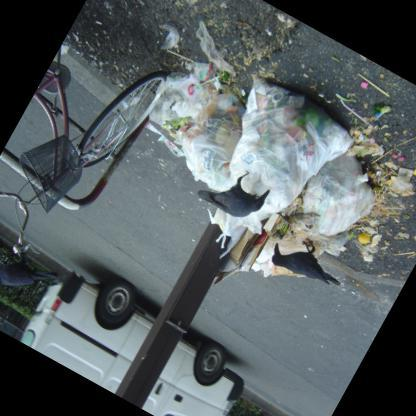Garbage: (208, 70, 356, 204), (287, 150, 392, 260), (165, 83, 264, 193), (142, 1, 248, 89), (335, 88, 415, 196), (147, 64, 216, 146), (342, 224, 395, 278)
